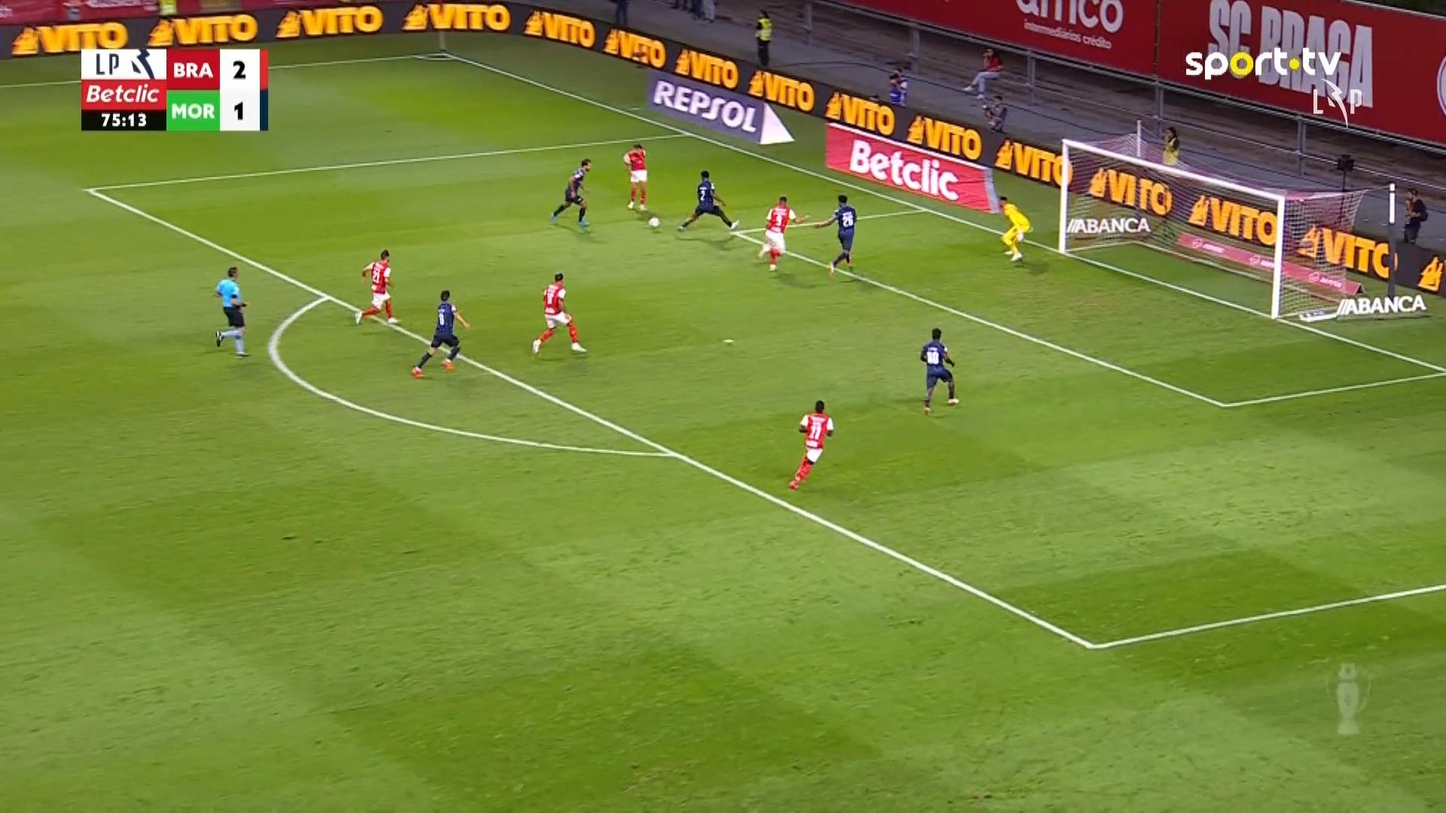ball: (648, 216, 660, 227)
goalkeeper: (994, 193, 1032, 262)
player: (410, 289, 471, 377), (531, 271, 587, 355), (787, 398, 834, 490), (757, 194, 810, 272), (676, 169, 740, 232), (813, 193, 857, 277), (354, 248, 400, 325), (919, 327, 959, 414), (549, 157, 593, 228), (622, 142, 648, 211)
referee: (213, 266, 249, 357)
